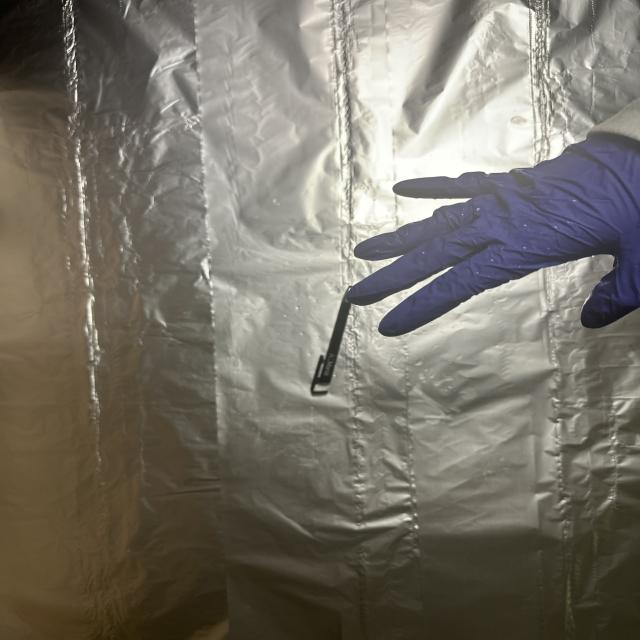gloves_contaminated: (349, 127, 640, 336)
